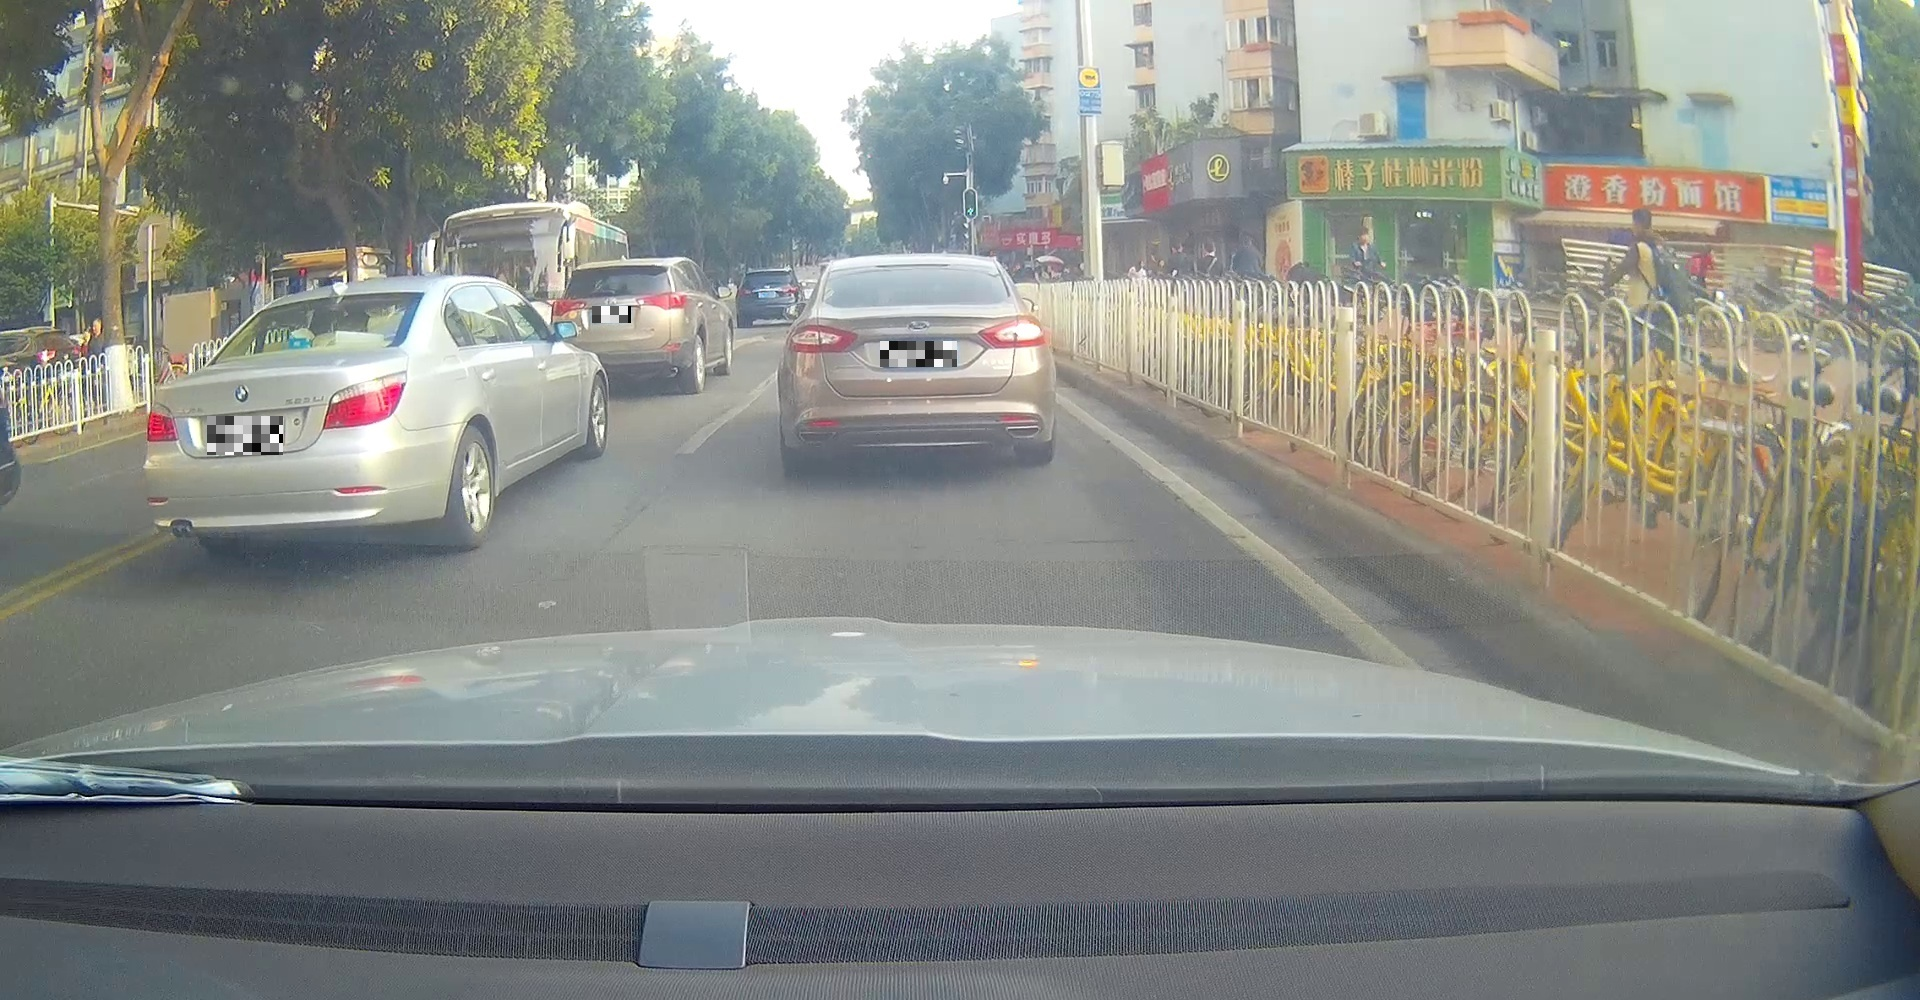L_light: (783, 324, 858, 354), (145, 401, 179, 442), (551, 299, 585, 324)
R_light: (323, 369, 408, 430), (977, 313, 1046, 350), (636, 292, 687, 310)
T_light: (310, 297, 354, 306), (895, 268, 935, 275), (610, 266, 632, 273)
day-no: (141, 275, 425, 560), (778, 253, 1055, 475), (549, 258, 692, 393)
plate_1: (207, 416, 283, 456)
plate_2: (592, 306, 631, 324)
plate_3: (880, 341, 957, 367)
